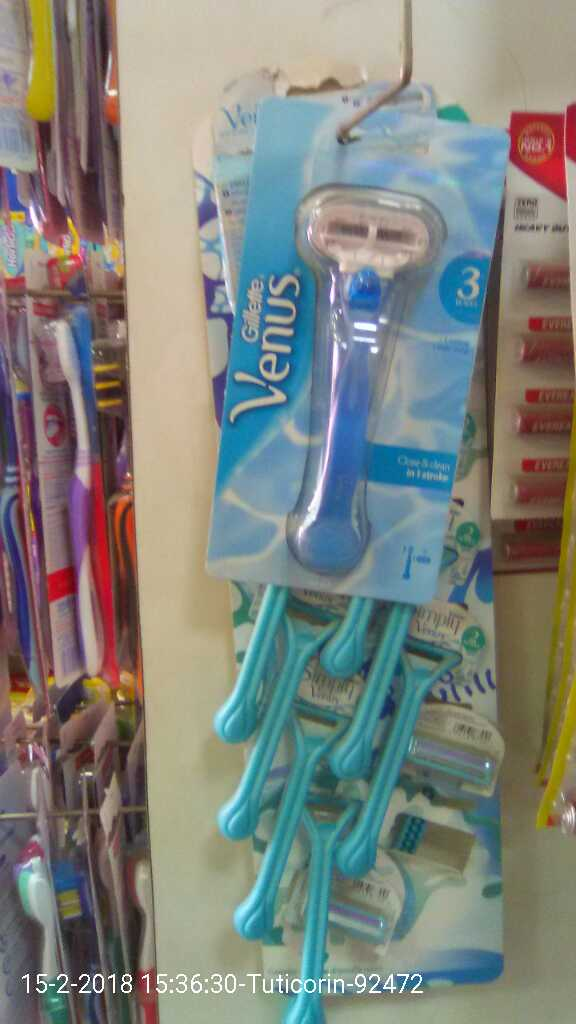venus: (244, 171, 456, 591)
